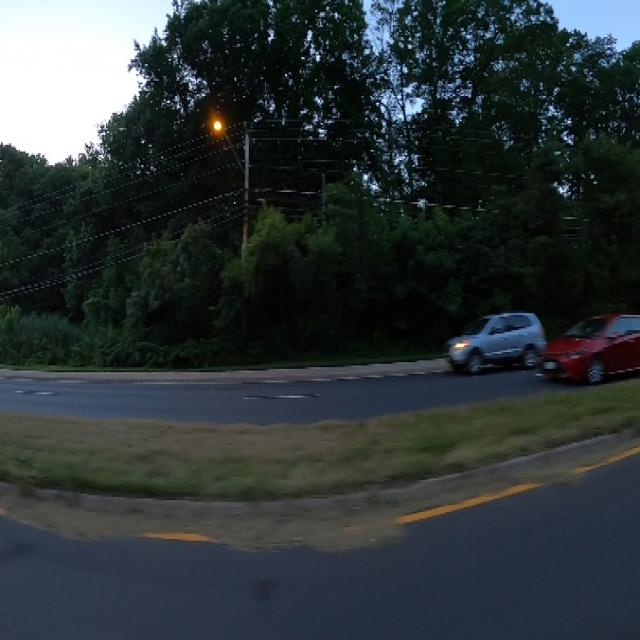Cars: (550, 315, 640, 391), (452, 301, 540, 363)
